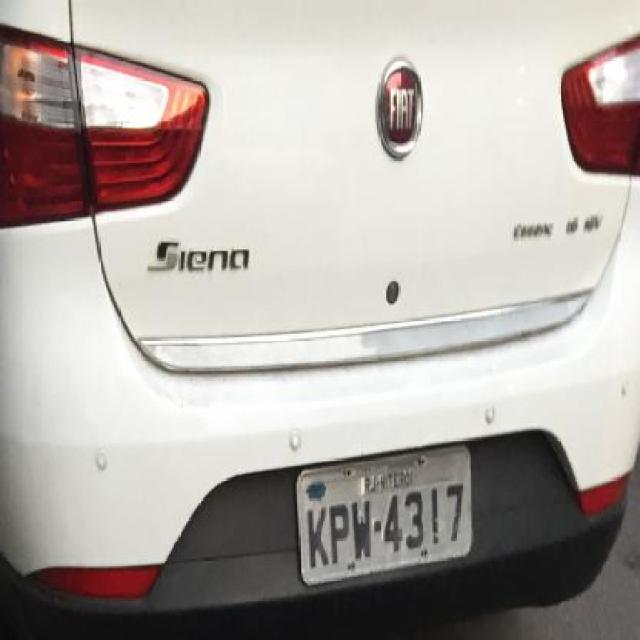old_plate: (289, 437, 479, 595)
